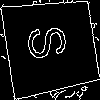S: (25, 21, 78, 62)
